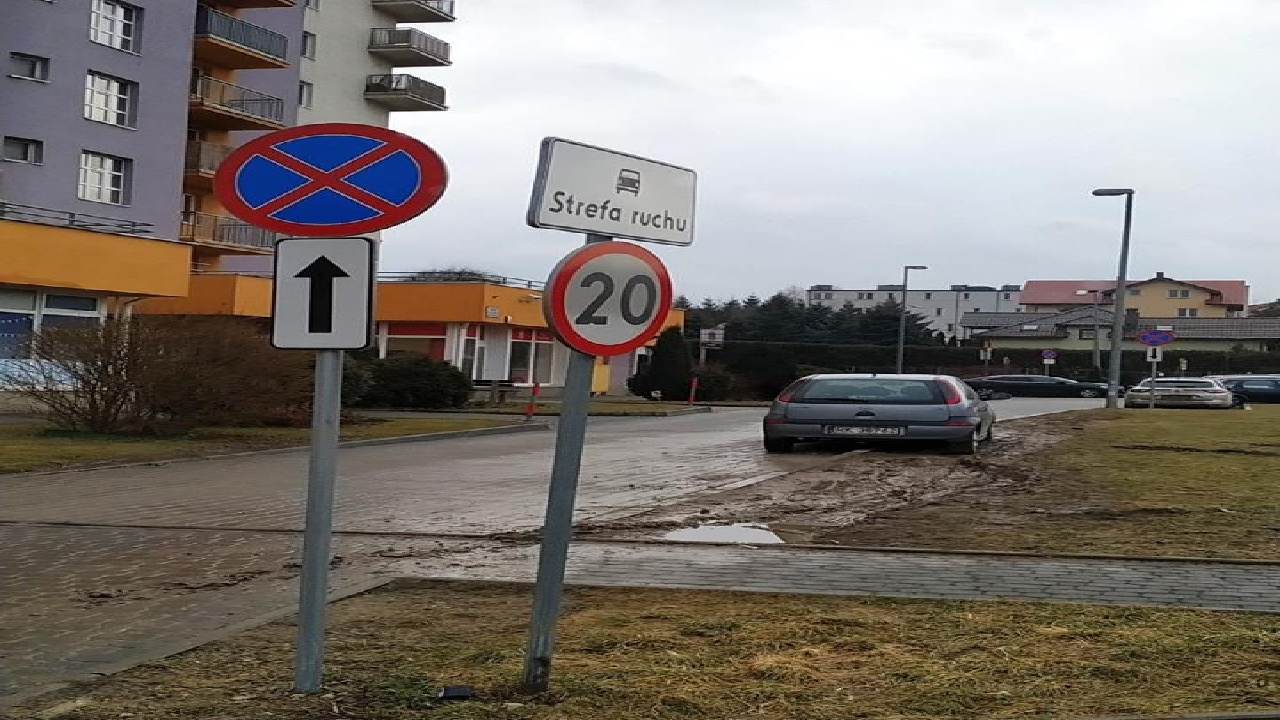B33_20: (532, 236, 684, 357)
B35: (211, 119, 452, 233)
D52: (522, 129, 707, 246)
